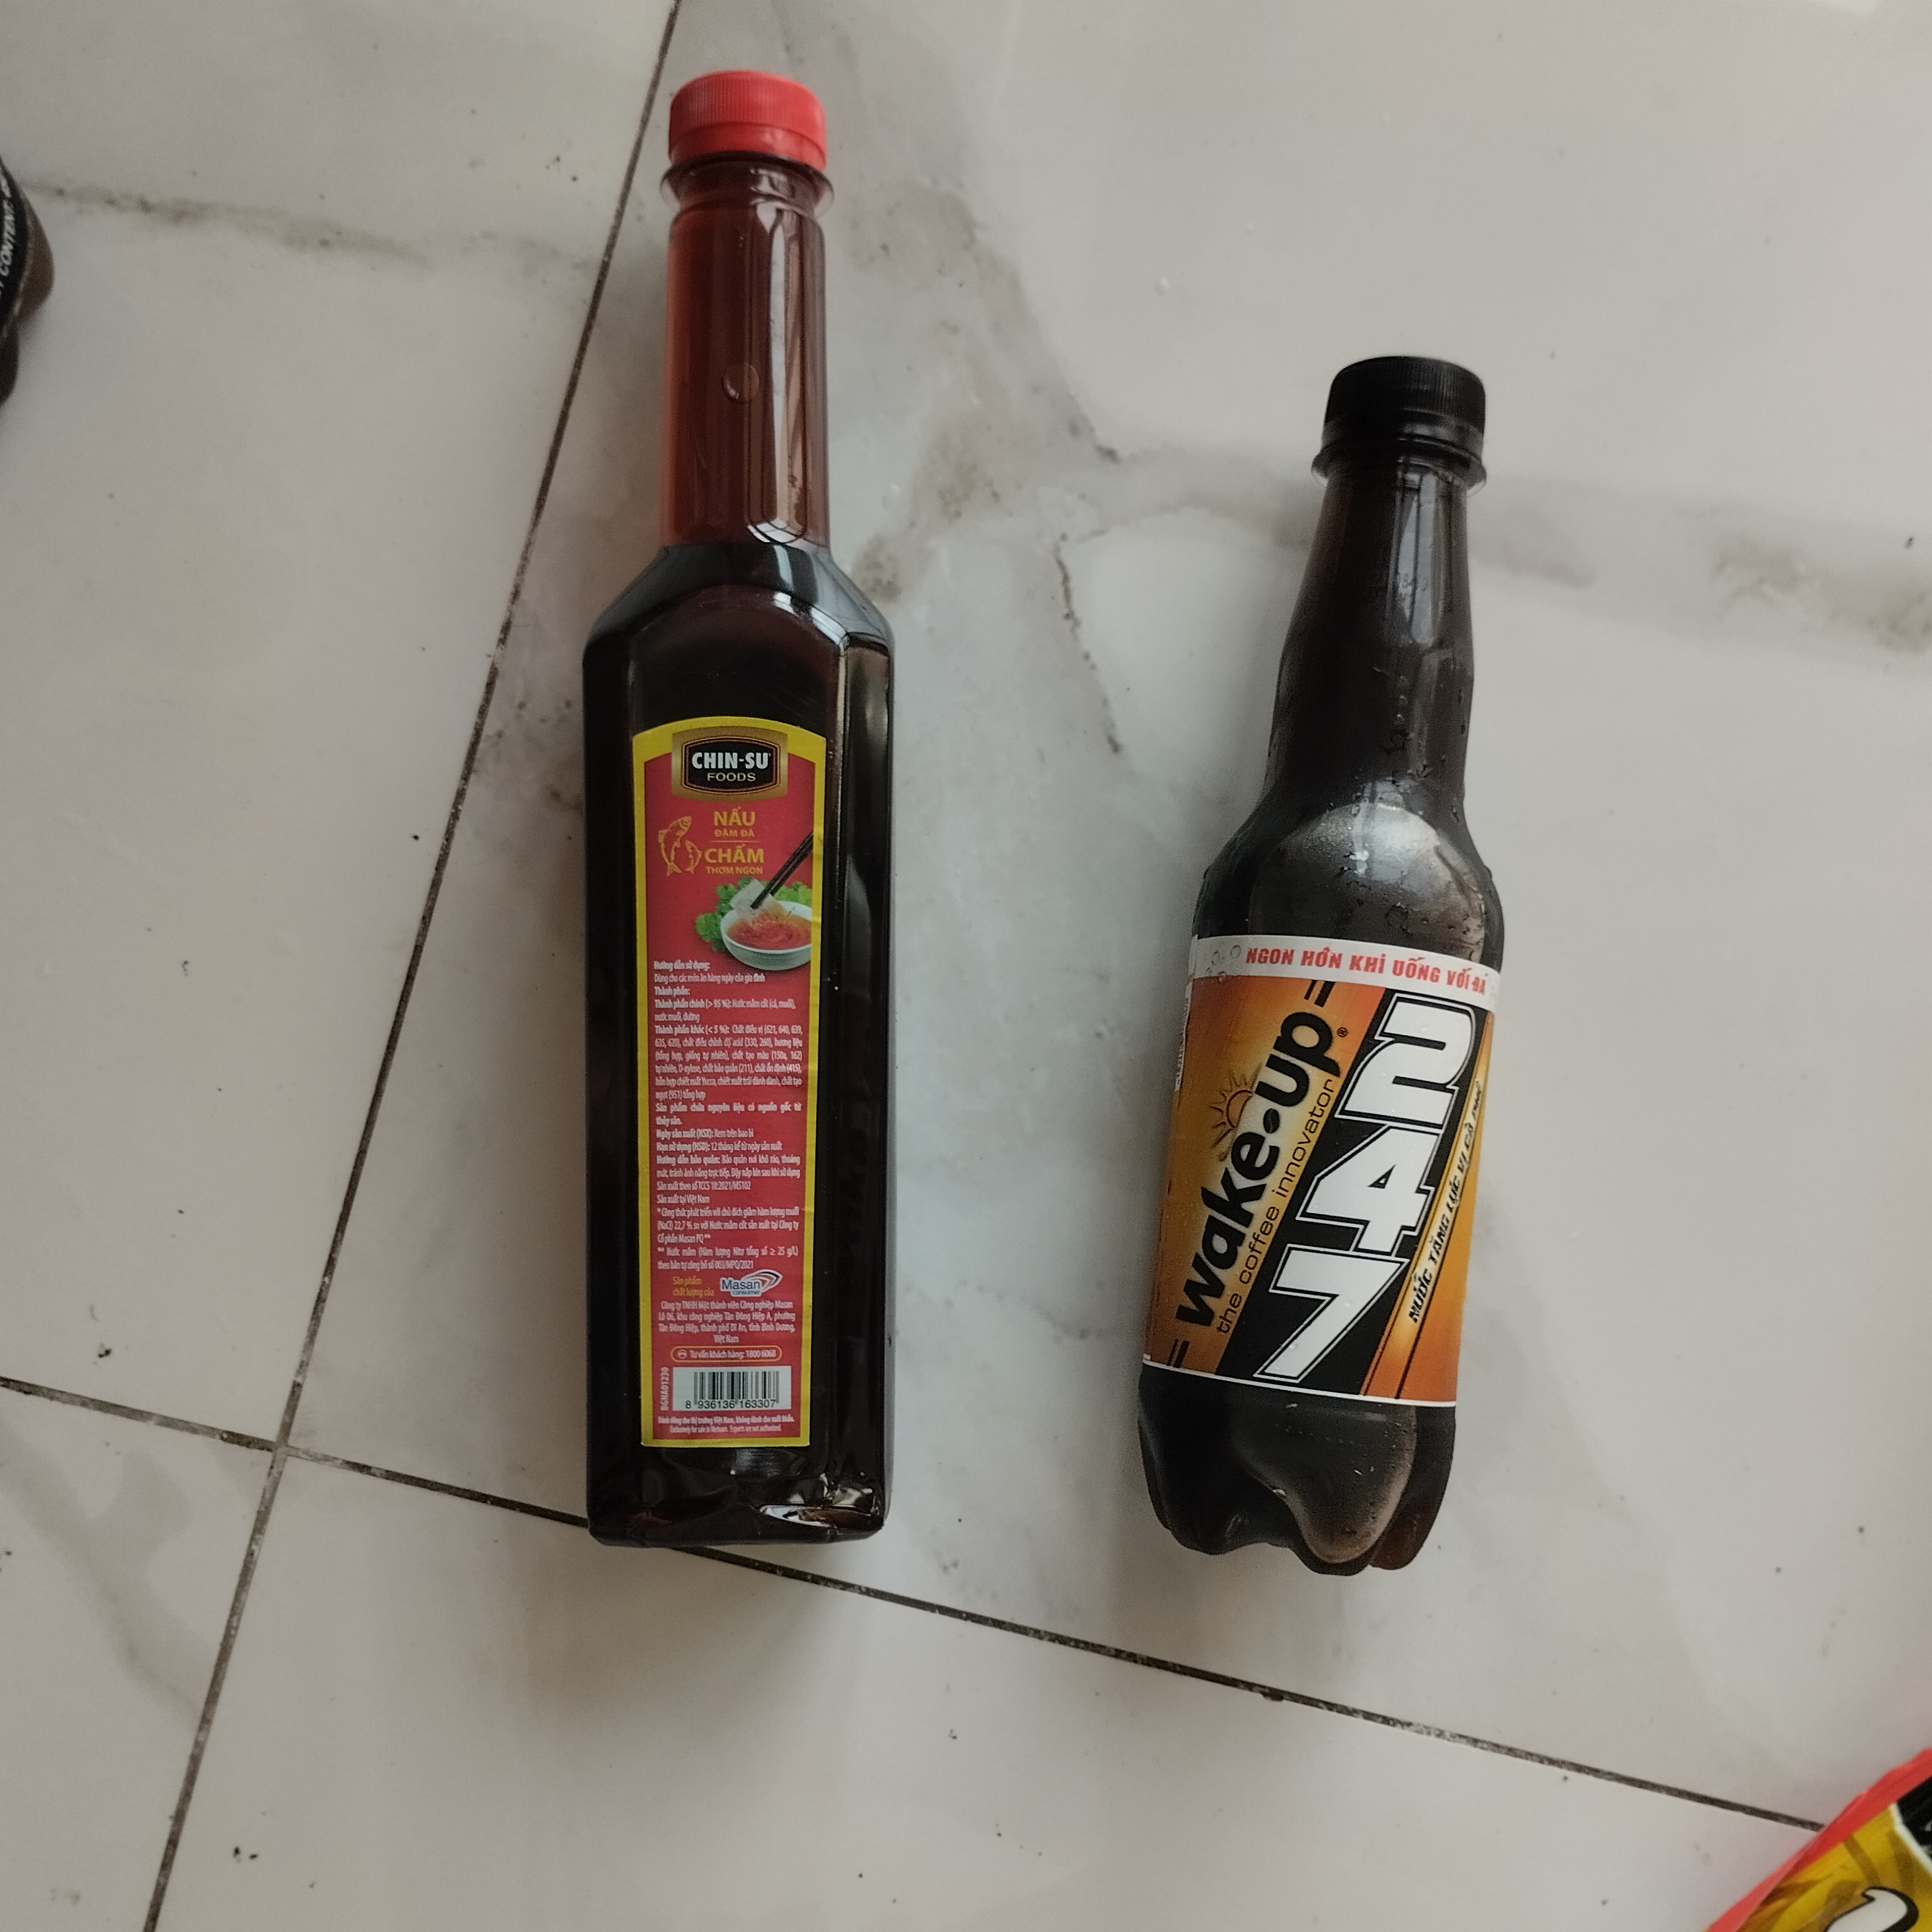247: (1139, 347, 1514, 1580)
Namngu: (570, 62, 915, 1550)
